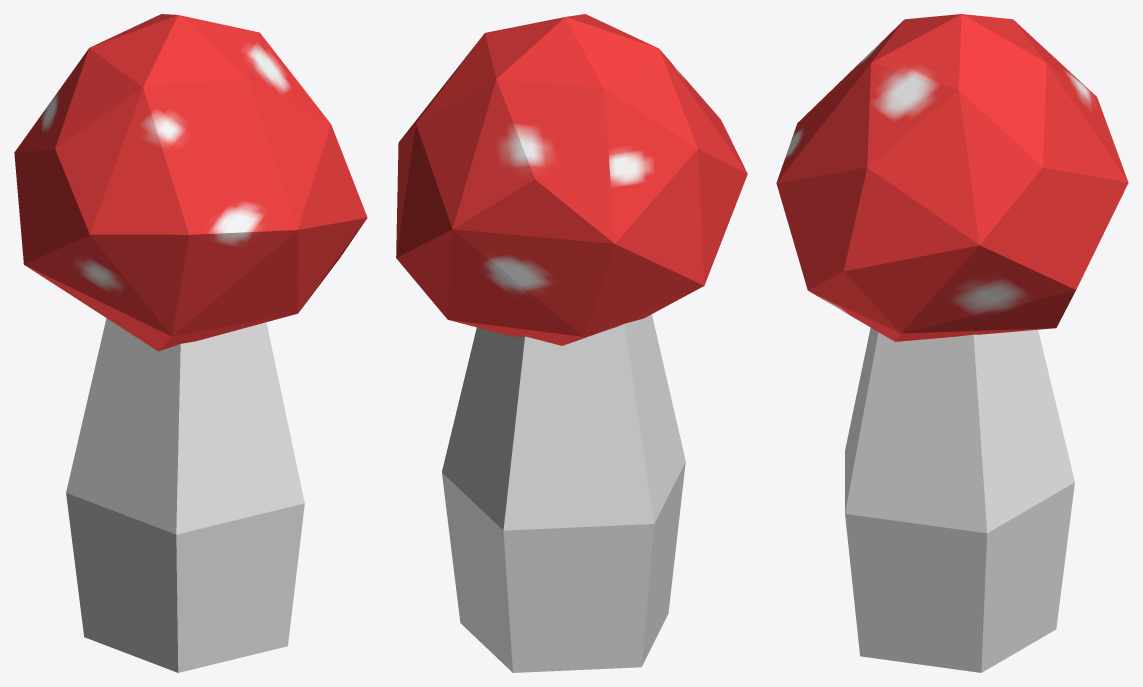
Rendered from Mushroom_e_04.fbx.
3 views of the same model, side by side, from view 1: azimuth 30°, elevation 25°; view 2: azimuth 150°, elevation 25°; view 3: azimuth 270°, elevation 25° (orthographic). The views are drawn at different scales.
Parts seen in each view (by area): view 1: Mushroom_e_04; view 2: Mushroom_e_04; view 3: Mushroom_e_04.
Boxes of the visible parts, <box> form: Mushroom_e_04: <box>14,14,367,672</box>; Mushroom_e_04: <box>396,14,747,672</box>; Mushroom_e_04: <box>776,14,1128,672</box>.
Bounding box in the file's own units: 10.31 × 20.02 × 10.42.
